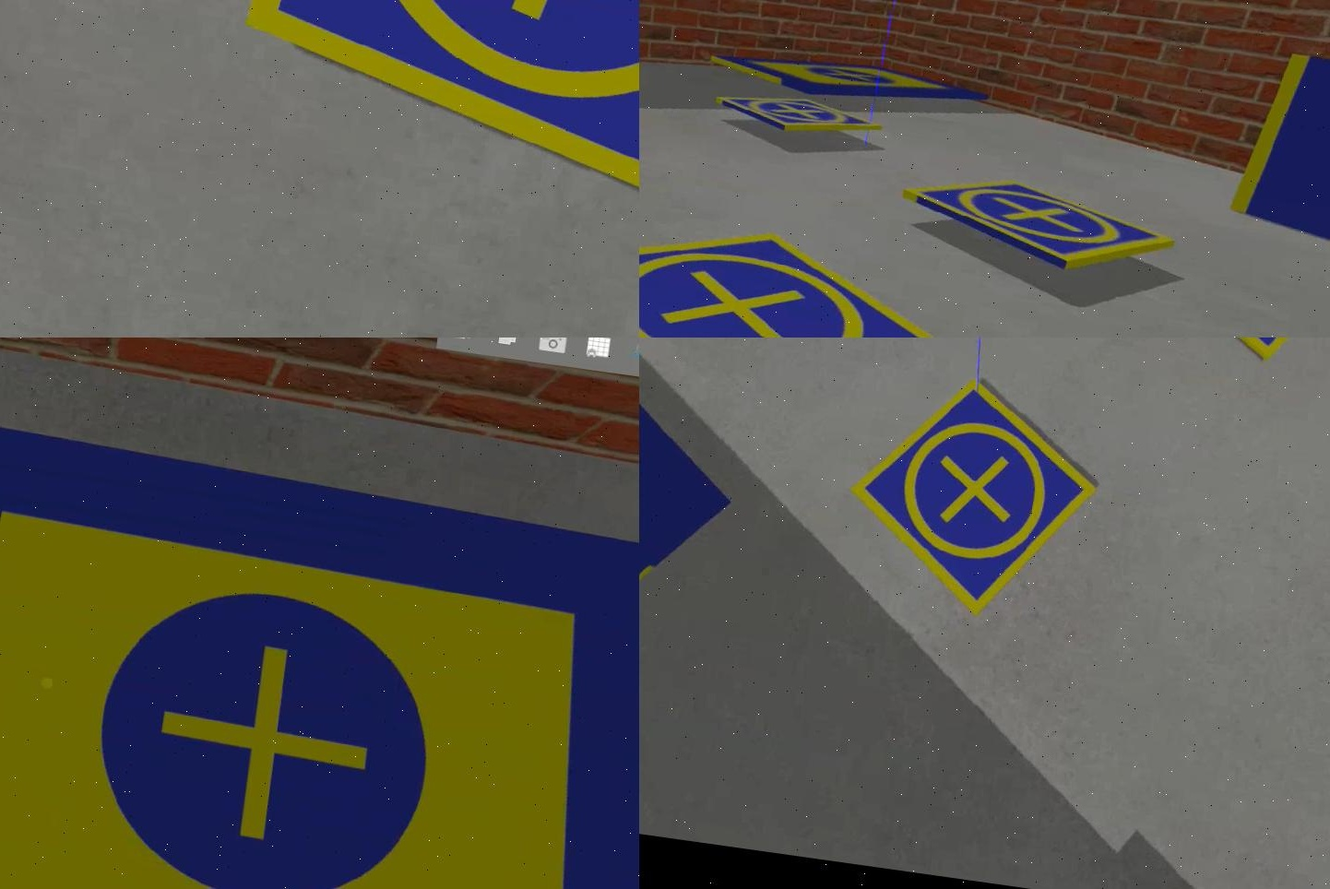large_base: (0, 408, 637, 889), (637, 338, 772, 839), (700, 38, 991, 124)
small_base: (226, 1, 637, 243), (831, 362, 1111, 627), (637, 203, 971, 338), (892, 166, 1173, 284), (707, 81, 885, 153)
